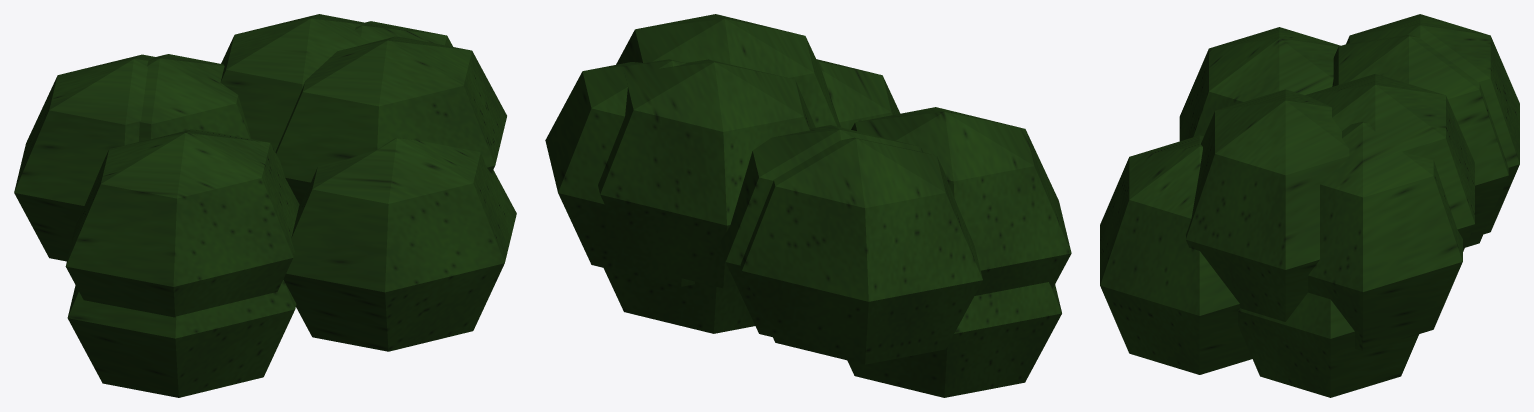
The model's file is PROP-70BCB4C8377F_lod2.glb.
3 renders of one model, left to right at view 1: azimuth 30°, elevation 25°; view 2: azimuth 150°, elevation 25°; view 3: azimuth 270°, elevation 25°, orthographic. The views are drawn at different scales.
Parts seen in each view (by area): view 1: foliage.001; view 2: foliage.001; view 3: foliage.001.
Part boxes in pixels (box(x1,y1,x2,y2)): foliage.001: box(14, 14, 516, 397); foliage.001: box(545, 14, 1071, 397); foliage.001: box(1100, 14, 1519, 397).
Size of the model in its own units: 1.14 by 0.7284 by 0.8749.
Materials: 1 (1 with a texture image).
